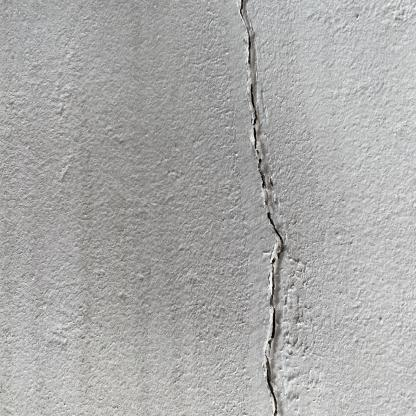crack: (249, 81, 265, 185), (267, 211, 284, 259), (268, 258, 277, 348), (265, 355, 278, 413), (240, 2, 252, 61)
